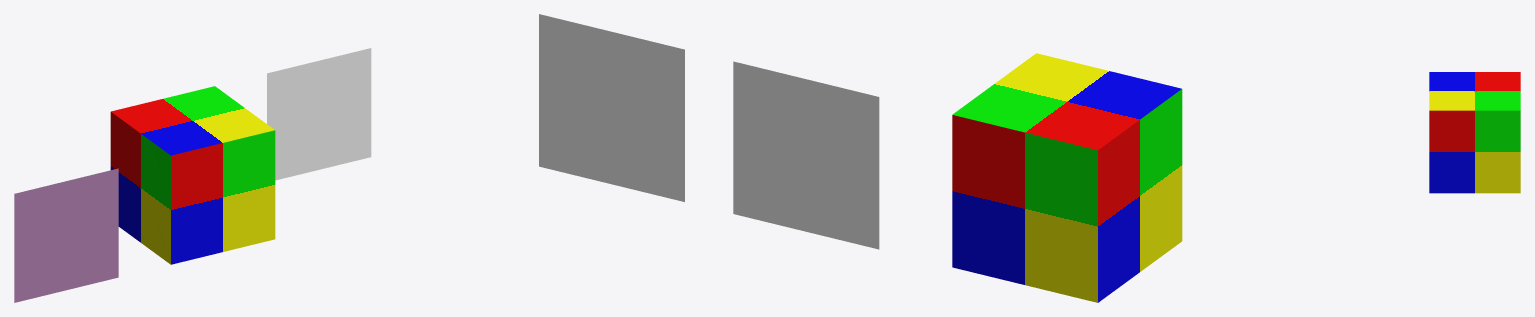
Rendered from texturedScene.glb.
3 renders of one model, left to right at view 1: azimuth 30°, elevation 25°; view 2: azimuth 150°, elevation 25°; view 3: azimuth 270°, elevation 25°, orthographic. The views are drawn at different scales.
Visible parts, largest first — view 1: cube, factorQuad, doubleQuad; view 2: cube, doubleQuad, singleQuad; view 3: cube.
Boxes of the visible parts, <box> form: cube: <box>110,86,275,264</box>; factorQuad: <box>14,168,118,302</box>; doubleQuad: <box>267,48,371,180</box>; cube: <box>952,53,1182,302</box>; doubleQuad: <box>733,61,879,249</box>; singleQuad: <box>539,14,684,201</box>; cube: <box>1429,72,1520,193</box>.
Bounding box in the file's own units: 6.4 × 1.2 × 1.2.
4 materials, 1 textured.
